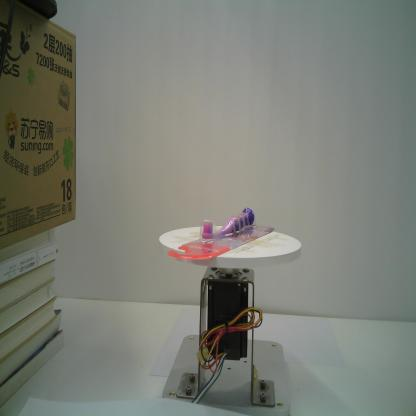Personal Hygiene: (167, 206, 275, 260)
